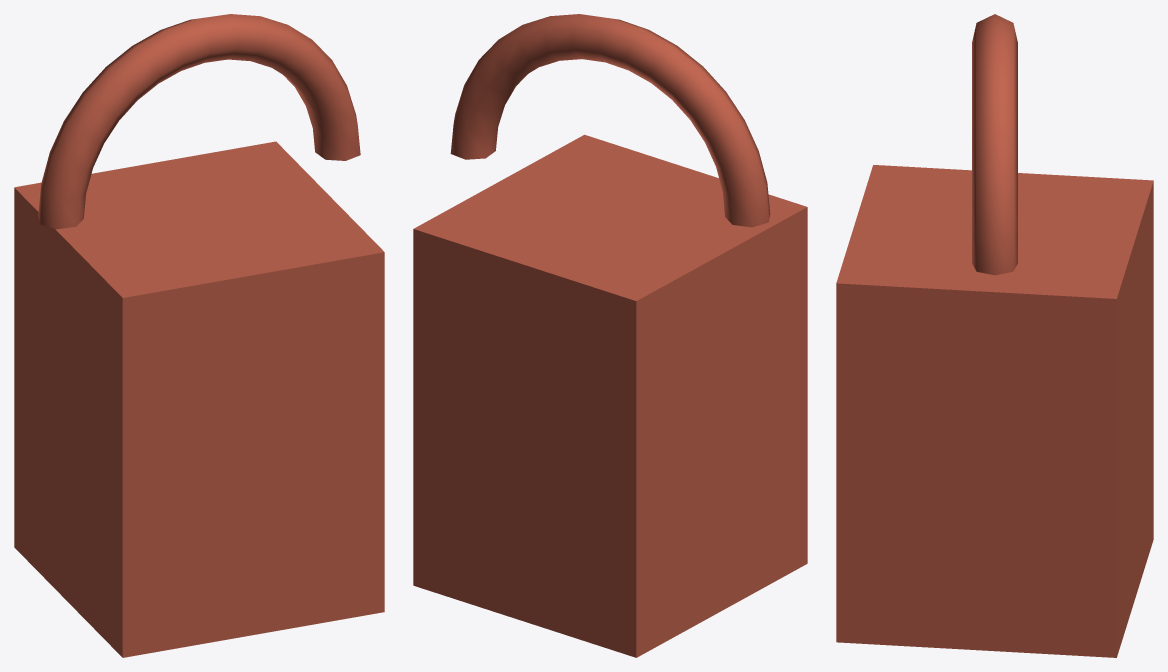
File: off_19_festival_lantern.glb
3 views of the same model, side by side, from view 1: azimuth 30°, elevation 25°; view 2: azimuth 150°, elevation 25°; view 3: azimuth 270°, elevation 25° (orthographic).
Parts seen in each view (by area): view 1: lantern_frame, lantern_handle; view 2: lantern_frame, lantern_handle; view 3: lantern_frame, lantern_handle.
Part boxes in pixels (x1=…): lantern_frame: x1=14, y1=141, x2=384, y2=657; lantern_handle: x1=38, y1=14, x2=360, y2=229; lantern_frame: x1=413, y1=134, x2=807, y2=657; lantern_handle: x1=450, y1=14, x2=770, y2=227; lantern_frame: x1=836, y1=165, x2=1153, y2=657; lantern_handle: x1=972, y1=14, x2=1017, y2=275.
Bounding box in the file's own units: 0.39 × 0.655 × 0.3366.
